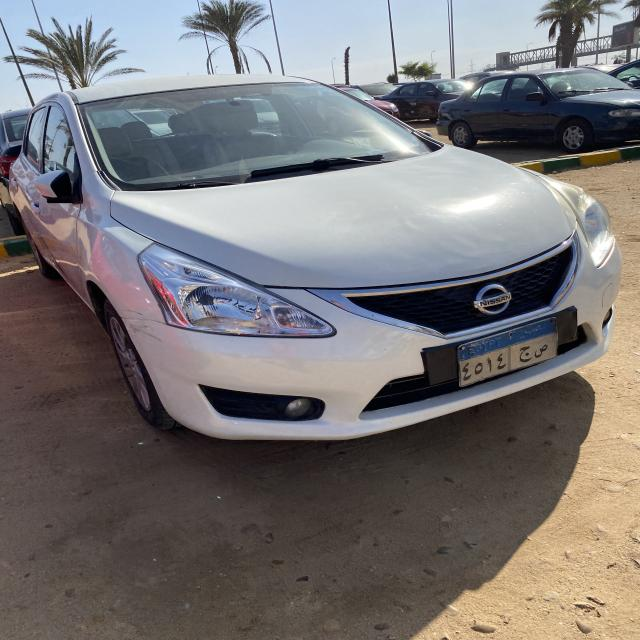License Plate: (458, 317, 557, 387)
